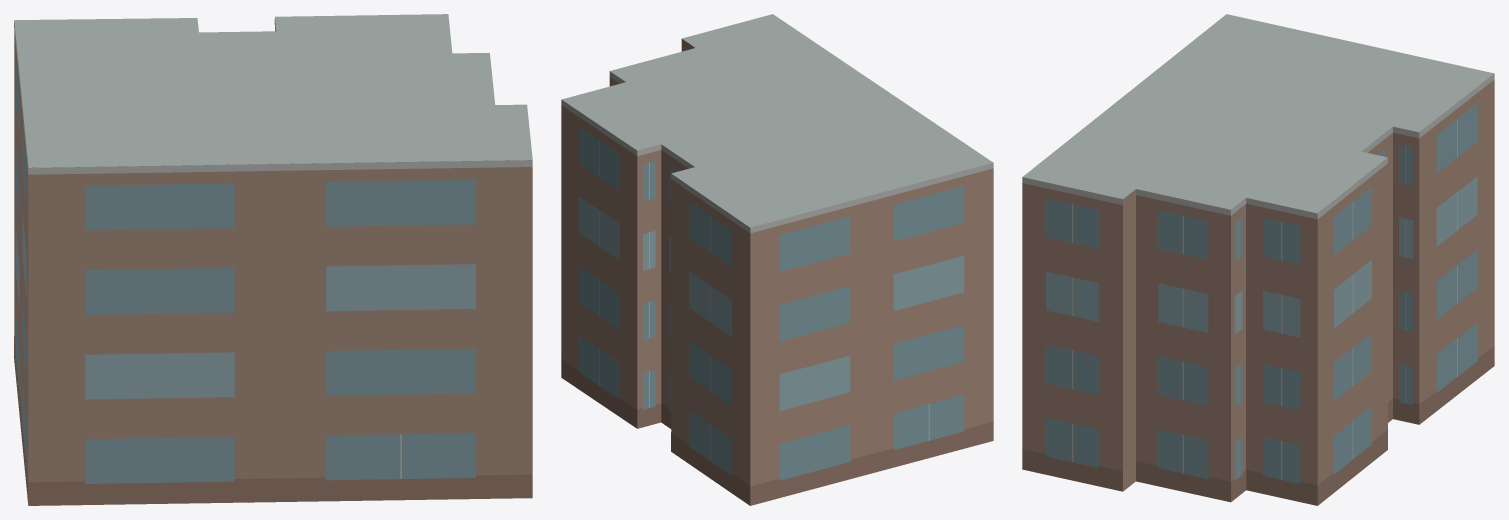
File: survey-upis-32591636.glb
3 renders of one model, left to right at view 1: azimuth 30°, elevation 25°; view 2: azimuth 150°, elevation 25°; view 3: azimuth 270°, elevation 25°, orthographic. The views are drawn at different scales.
Visible parts, largest first — view 1: survey-upis-32591636.tmp; view 2: survey-upis-32591636.tmp; view 3: survey-upis-32591636.tmp.
Part boxes in pixels (bbox=[...]): survey-upis-32591636.tmp: bbox=[14, 14, 532, 505]; survey-upis-32591636.tmp: bbox=[561, 14, 993, 505]; survey-upis-32591636.tmp: bbox=[1022, 14, 1494, 505].
Bounding box in the file's own units: 17.57 × 12 × 17.58.
